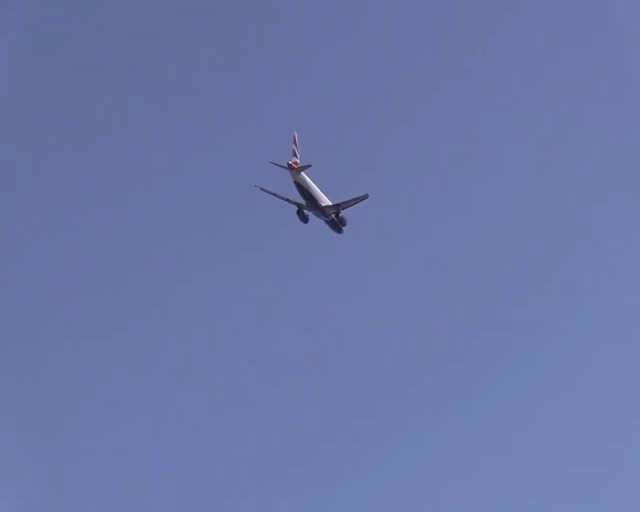AIRPLANE: (254, 130, 369, 234)
